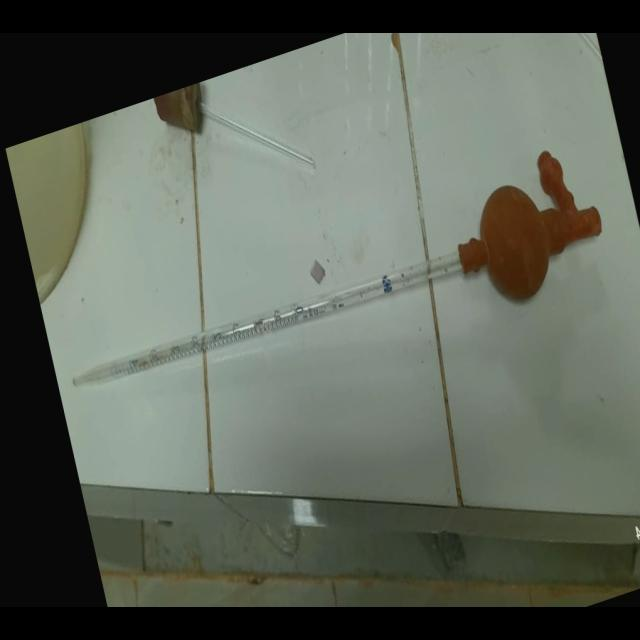Droppers: (52, 134, 633, 456)
